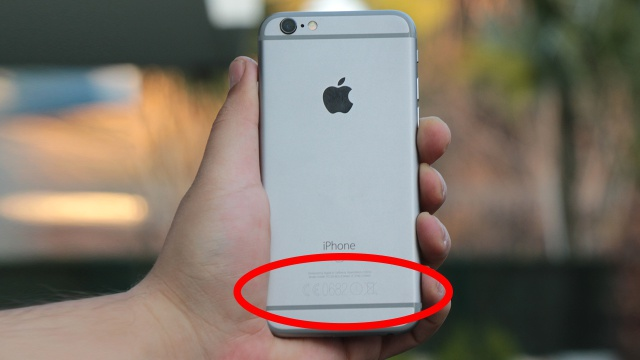apple: (309, 70, 360, 125)
